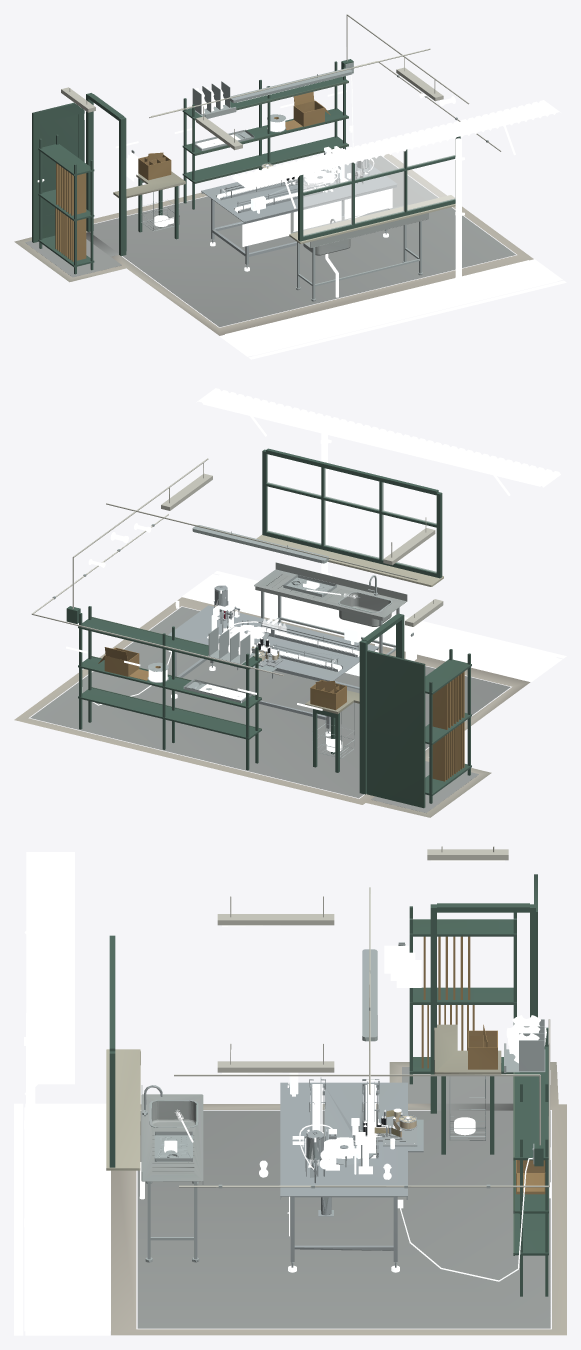
File: mini.glb
3 renders of one model, top to bottom at view 1: azimuth 30°, elevation 25°; view 2: azimuth 150°, elevation 25°; view 3: azimuth 270°, elevation 25°, orthographic. The views are drawn at different scales.
Parts seen in each view (by area): view 1: NATIVE_liner, part/labeler/dancer_pivot_pedestal, part/line/cap_chute_cover; view 2: NATIVE_liner, part/labeler/dancer_pivot_pedestal, part/line/cap_chute_cover; view 3: NATIVE_liner, part/labeler/dancer_pivot_pedestal.
Part boxes in pixels (left/top/right/bottom): NATIVE_liner: left=14, top=59, right=566, bottom=359; part/labeler/dancer_pivot_pedestal: left=61, top=14, right=501, bottom=301; part/line/cap_chute_cover: left=303, top=138, right=455, bottom=235; NATIVE_liner: left=14, top=388, right=566, bottom=817; part/labeler/dancer_pivot_pedestal: left=31, top=458, right=443, bottom=758; part/line/cap_chute_cover: left=222, top=454, right=436, bottom=615; NATIVE_liner: left=14, top=852, right=566, bottom=1335; part/labeler/dancer_pivot_pedestal: left=106, top=846, right=550, bottom=1262.
Size of what is drawn, in the model's own units: 6.28 by 2.71 by 5.36.
Materials: 9 (9 with a texture image).
